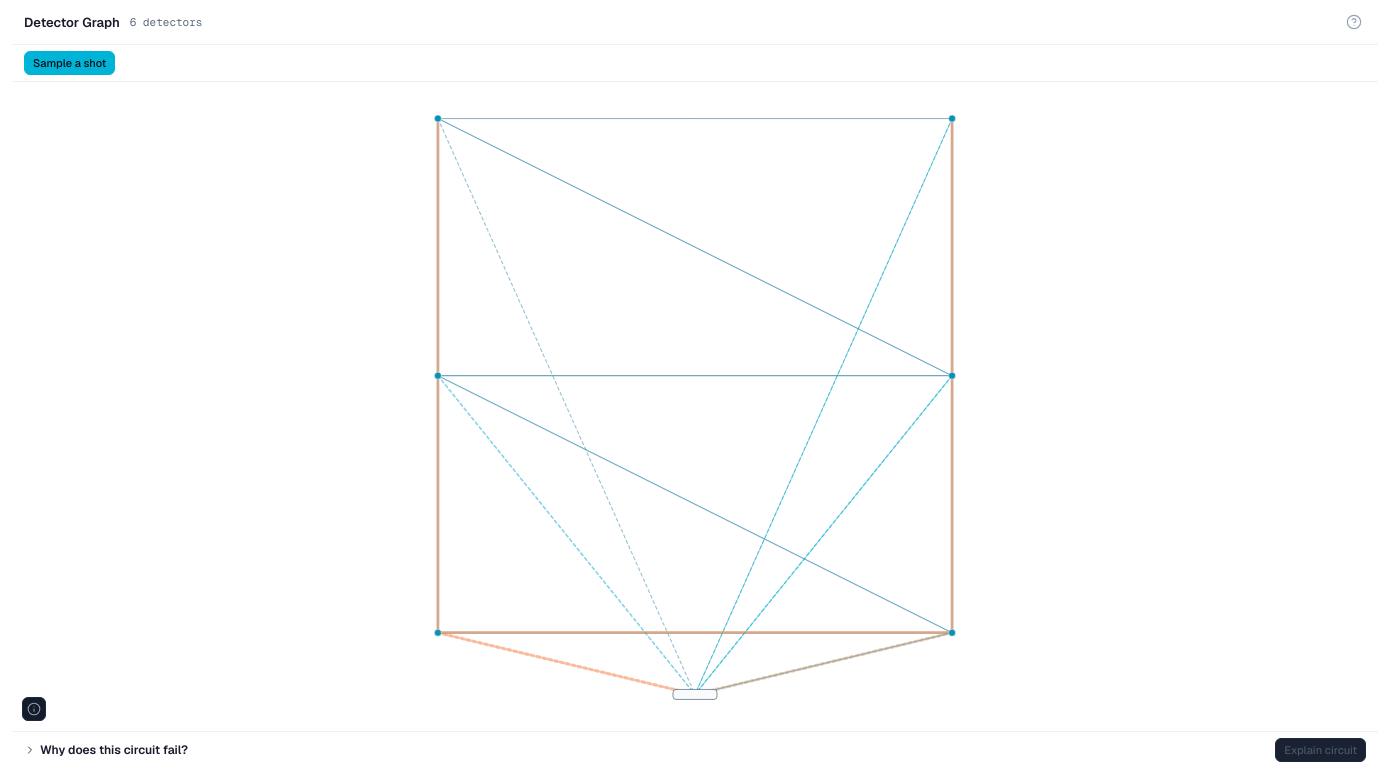
Test: DetectorGraphPanel interactive decoder honesty › puts the legend behind a toggle so it never covers the graph
Check: the text "observable" is not shown
What coordinates should you click on to do the following:
click the button named "Legend"
I would click on:
 (34, 709)
Its box is x1=22 y1=697 x2=46 y2=721.
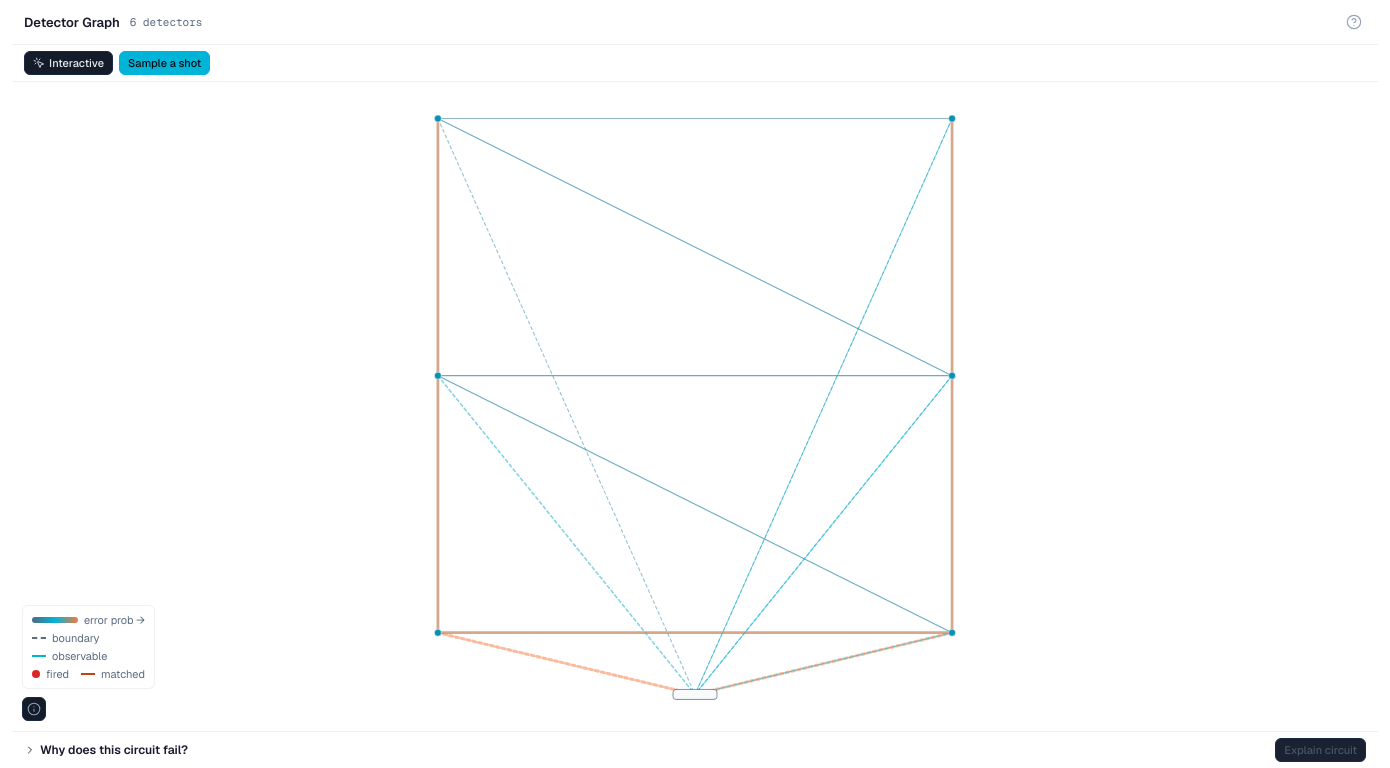
Check: the text "observable" is shown, box x1=32 y1=649 x2=107 y2=663
